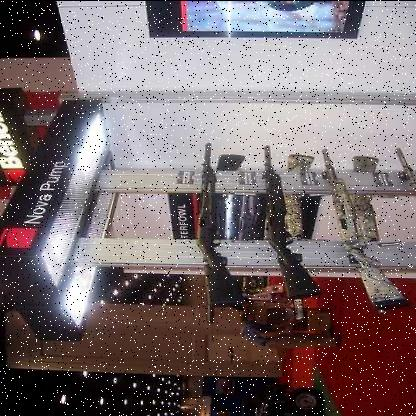rifle: (178, 128, 258, 325), (315, 141, 411, 305), (246, 136, 331, 302)
